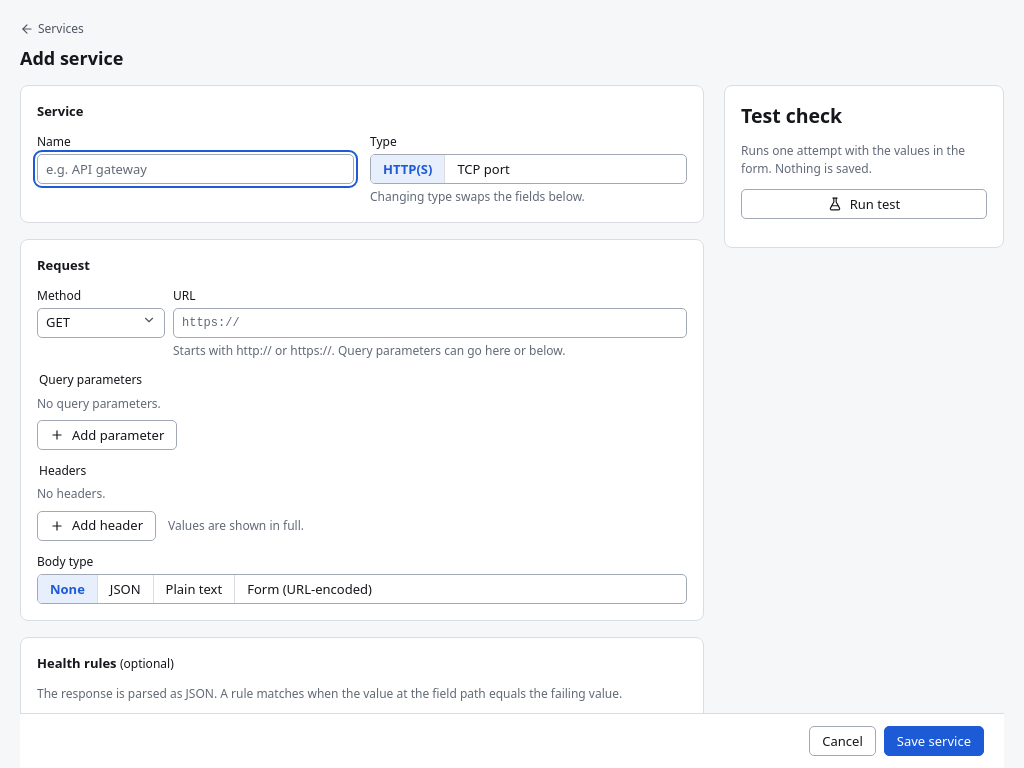
client checks before a test (FR-106) › an empty URL shows Enter a URL., focuses it, sends nothing and says the test did not run
Check: the field labelled "Name" is shown, box [37,154,354,184]
Click the button "Run test" at (864, 204), box [741,189,987,219]
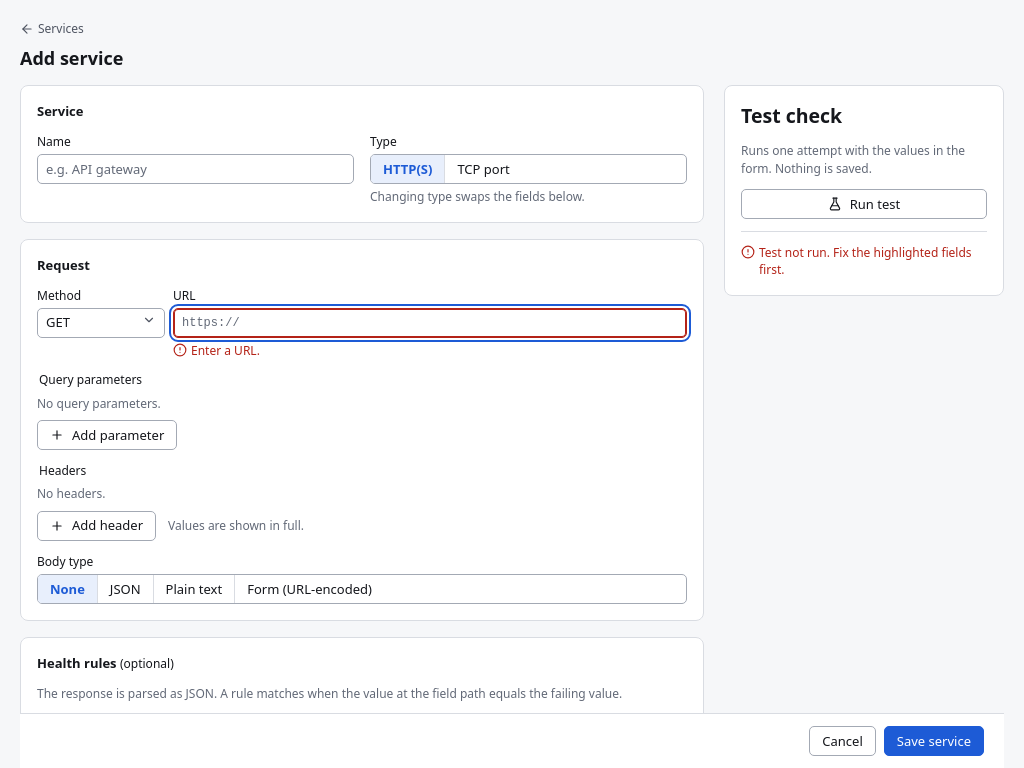
Check: the text "Enter a URL." is shown, box [191,342,260,359]
Check: the message reads "Test not run. Fix the highlighted fields first.", box [759,244,972,278]
